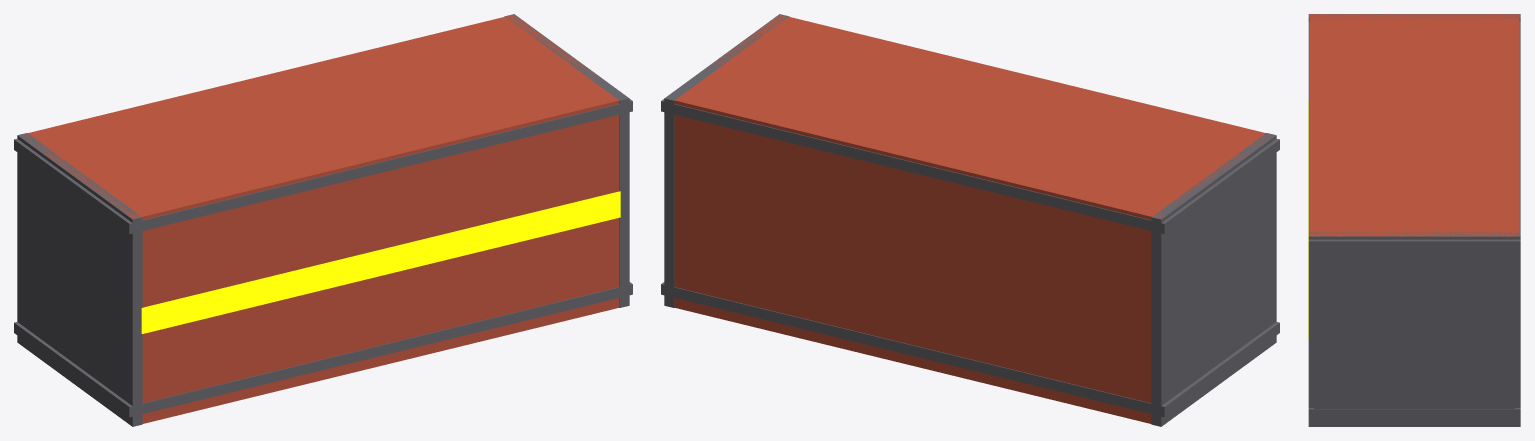
File: HARBOR_PROP_Container_SM.glb
3 views of the same model, side by side, from view 1: azimuth 30°, elevation 25°; view 2: azimuth 150°, elevation 25°; view 3: azimuth 270°, elevation 25° (orthographic). The views are drawn at different scales.
Visible parts, largest first — view 1: HARBOR_PROP_Container_SM; view 2: HARBOR_PROP_Container_SM; view 3: HARBOR_PROP_Container_SM.
Boxes of the visible parts, x1,y1,x2,y2 form: HARBOR_PROP_Container_SM: (14, 14, 632, 426); HARBOR_PROP_Container_SM: (661, 14, 1279, 426); HARBOR_PROP_Container_SM: (1308, 14, 1520, 426).
Bounding box in the file's own units: 6.1 × 2.4 × 2.42.
